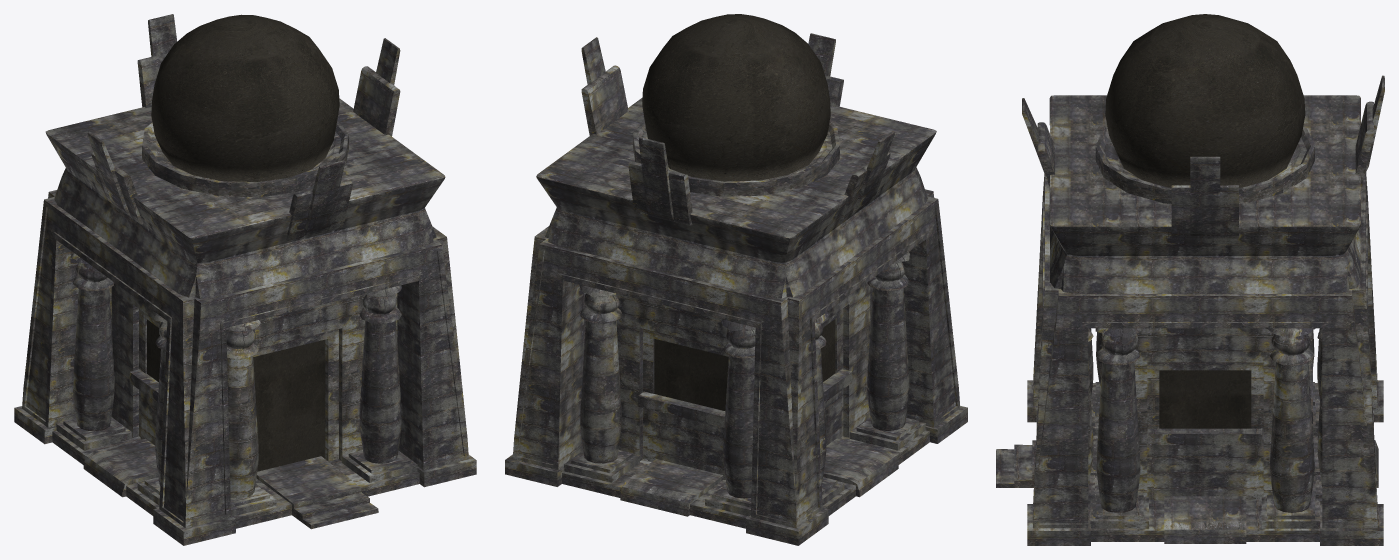
File: cemetery_mauso.FBX
The picture shows the model from 3 angles, left to right: view 1: azimuth 30°, elevation 25°; view 2: azimuth 150°, elevation 25°; view 3: azimuth 270°, elevation 25°; orthographic projection. The views are drawn at different scales.
Parts seen in each view (by area): view 1: cemetery_mausoleum; view 2: cemetery_mausoleum; view 3: cemetery_mausoleum.
Part boxes in pixels (left/top/right/bottom): cemetery_mausoleum: left=14, top=14, right=476, bottom=545; cemetery_mausoleum: left=505, top=14, right=967, bottom=545; cemetery_mausoleum: left=996, top=14, right=1384, bottom=545.
Bounding box in the file's own units: 28.92 × 39.46 × 30.97.
